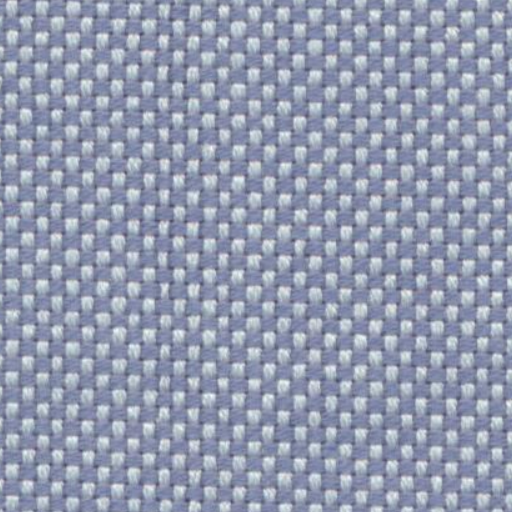TuoSha: (134, 10, 203, 503)
